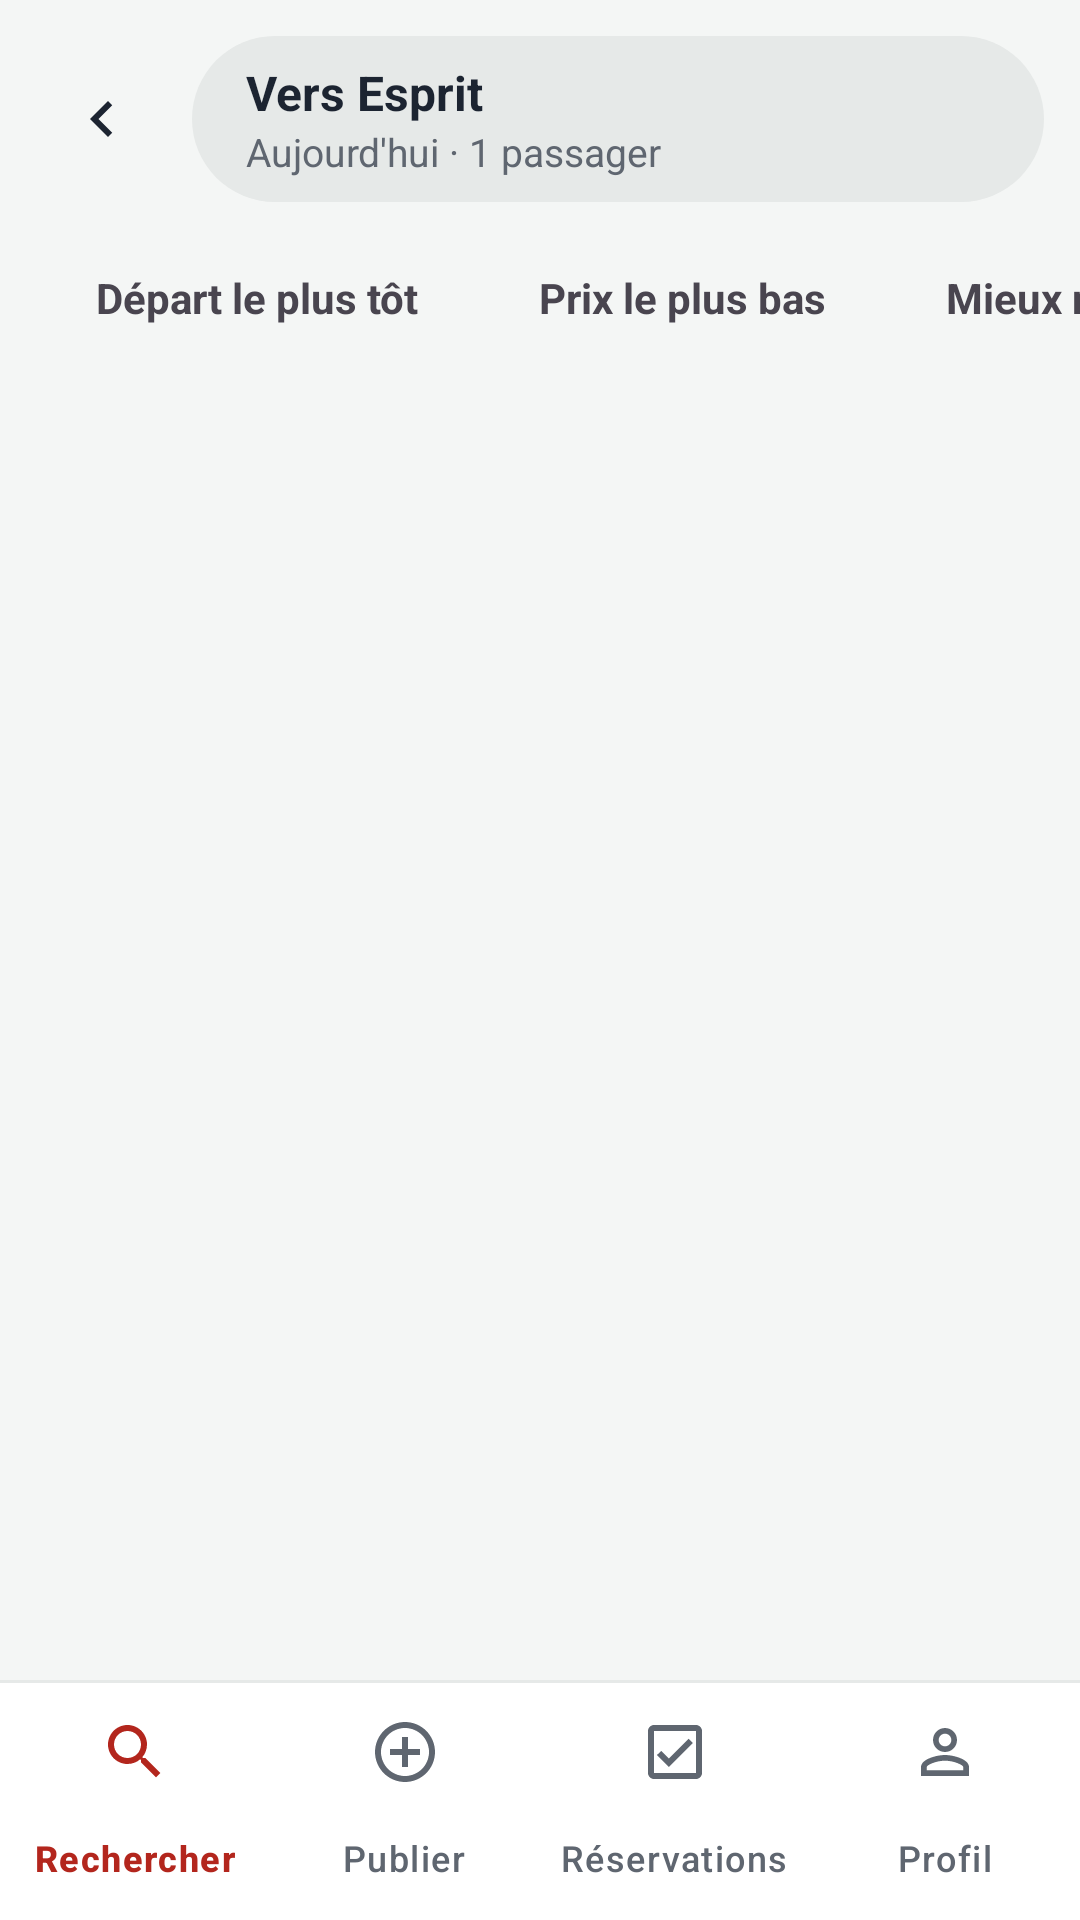

Icons on this 1080*1920 Android screen, each with the point to tap as (x=x, y=y):
Retour: (x=101, y=119)
